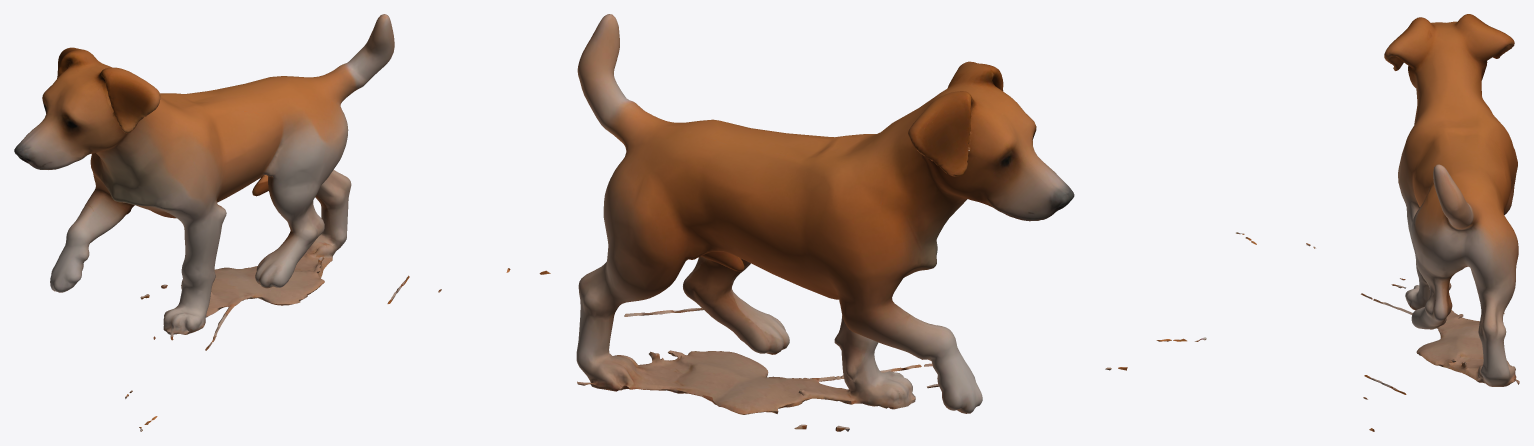
3 views of the same model, side by side, from view 1: azimuth 30°, elevation 25°; view 2: azimuth 150°, elevation 25°; view 3: azimuth 270°, elevation 25° (orthographic). The views are drawn at different scales.
Parts seen in each view (by area): view 1: world; view 2: world; view 3: world.
Boxes of the visible parts, x1=… form: world: x1=14, y1=14, x2=510, y2=431; world: x1=539, y1=14, x2=1206, y2=431; world: x1=1236, y1=14, x2=1519, y2=431.
Size of the model in its own units: 1.56 by 0.914 by 0.9291.
1 material, 1 textured.
